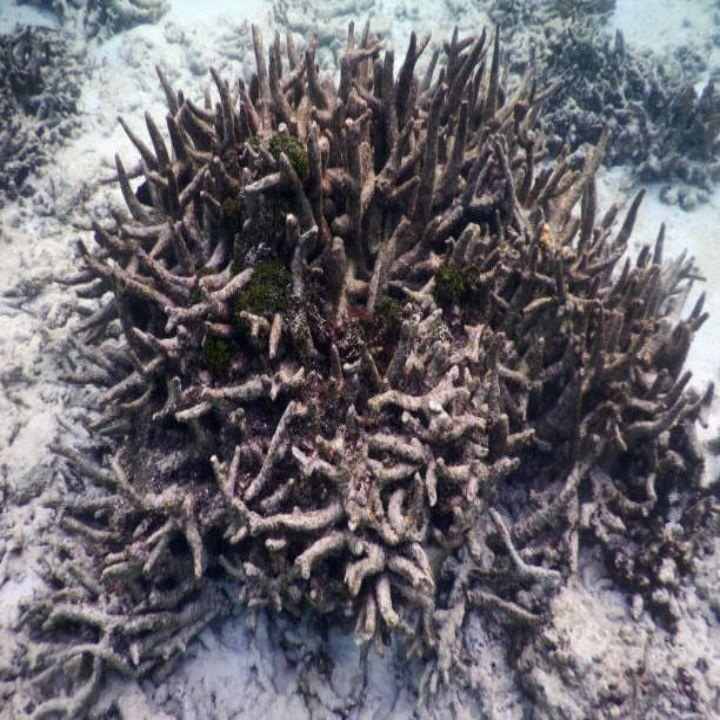Dead Coral: (58, 23, 699, 664)
